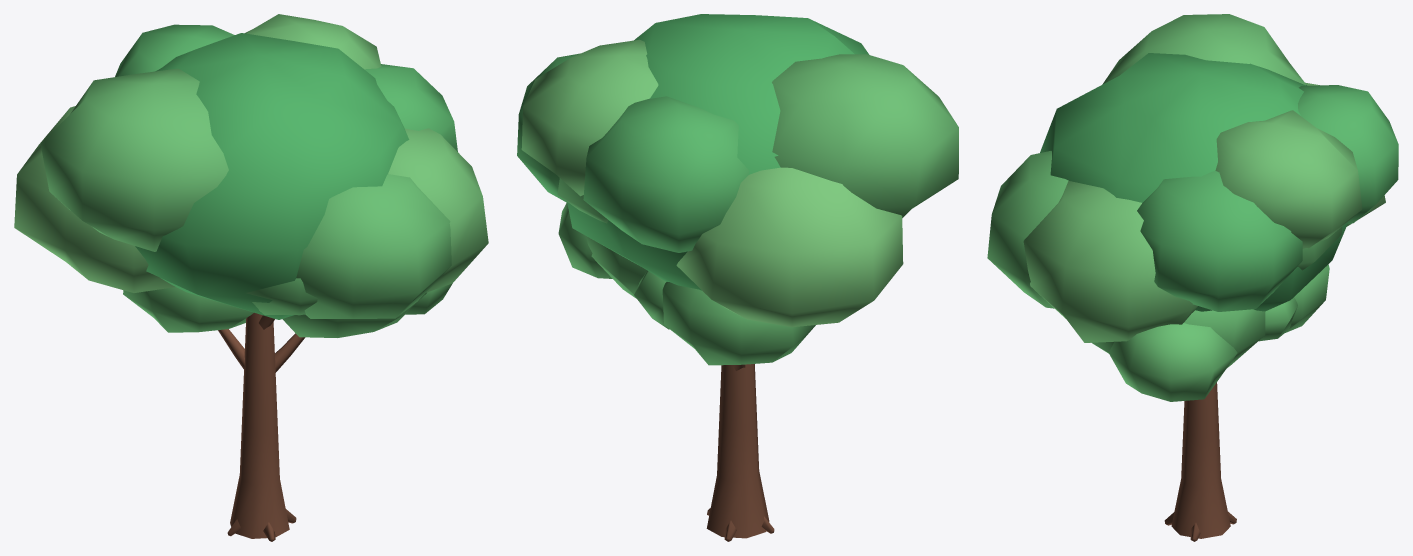
File: flora_tree_spring_oak.gltf
The picture shows the model from 3 angles, left to right: view 1: azimuth 30°, elevation 25°; view 2: azimuth 150°, elevation 25°; view 3: azimuth 270°, elevation 25°; orthographic projection. The views are drawn at different scales.
Visible parts, largest first — view 1: flora_tree_spring_oak; view 2: flora_tree_spring_oak; view 3: flora_tree_spring_oak.
Part boxes in pixels (<box>): flora_tree_spring_oak: <box>14,14,488,541</box>; flora_tree_spring_oak: <box>517,14,958,541</box>; flora_tree_spring_oak: <box>987,14,1398,541</box>.
Size of what is drawn, in the model's own units: 10.88 by 12.52 by 10.27.
